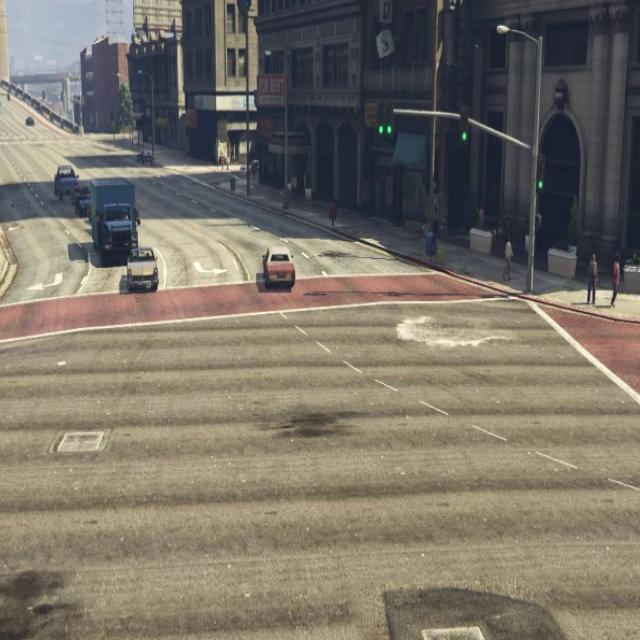Green-Signal: (374, 91, 397, 152), (456, 95, 476, 152), (534, 151, 548, 206)
